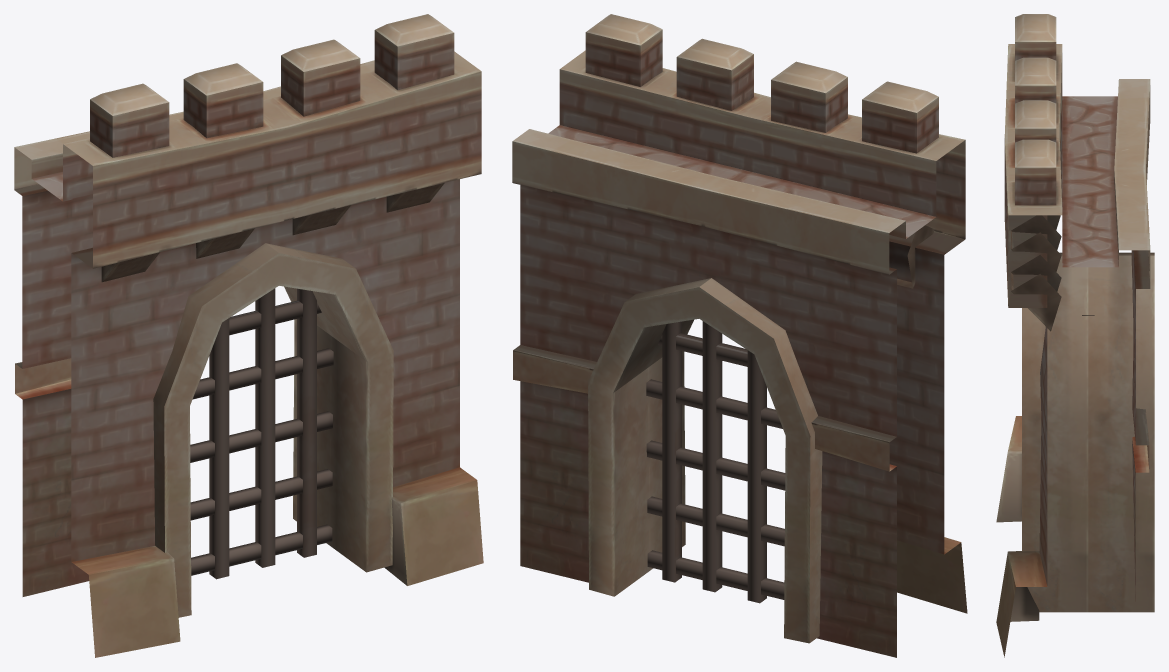
The model's file is castleWalls_smallWall_3.FBX.
3 views of the same model, side by side, from view 1: azimuth 30°, elevation 25°; view 2: azimuth 150°, elevation 25°; view 3: azimuth 270°, elevation 25° (orthographic). The views are drawn at different scales.
Visible parts, largest first — view 1: castleWalls_smallWall_3; view 2: castleWalls_smallWall_3; view 3: castleWalls_smallWall_3.
Boxes of the visible parts, x1,y1,x2,y2 form: castleWalls_smallWall_3: [14, 14, 483, 657]; castleWalls_smallWall_3: [512, 14, 967, 657]; castleWalls_smallWall_3: [996, 14, 1154, 657].
Size of the model in its own units: 302 by 400 by 118.
Materials: 1 (1 with a texture image).
